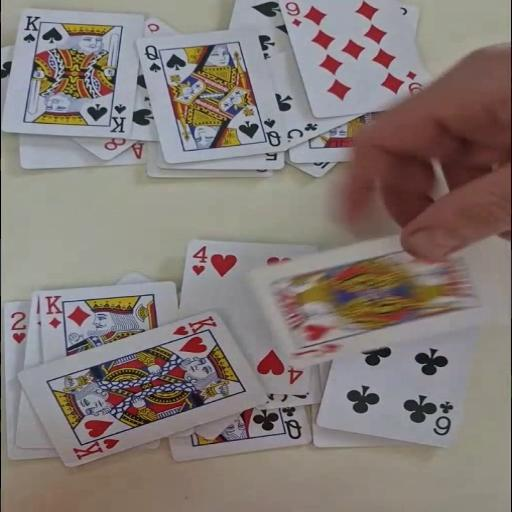2: (8, 309, 28, 344)
4: (188, 244, 208, 276)
6: (430, 400, 455, 436)
8: (101, 136, 128, 151)
9: (283, 0, 304, 28), (403, 68, 422, 92)
K: (69, 436, 121, 461), (169, 314, 219, 337), (42, 293, 64, 330), (106, 102, 128, 133), (20, 14, 41, 44)
Q: (262, 116, 284, 148), (142, 44, 162, 74)
